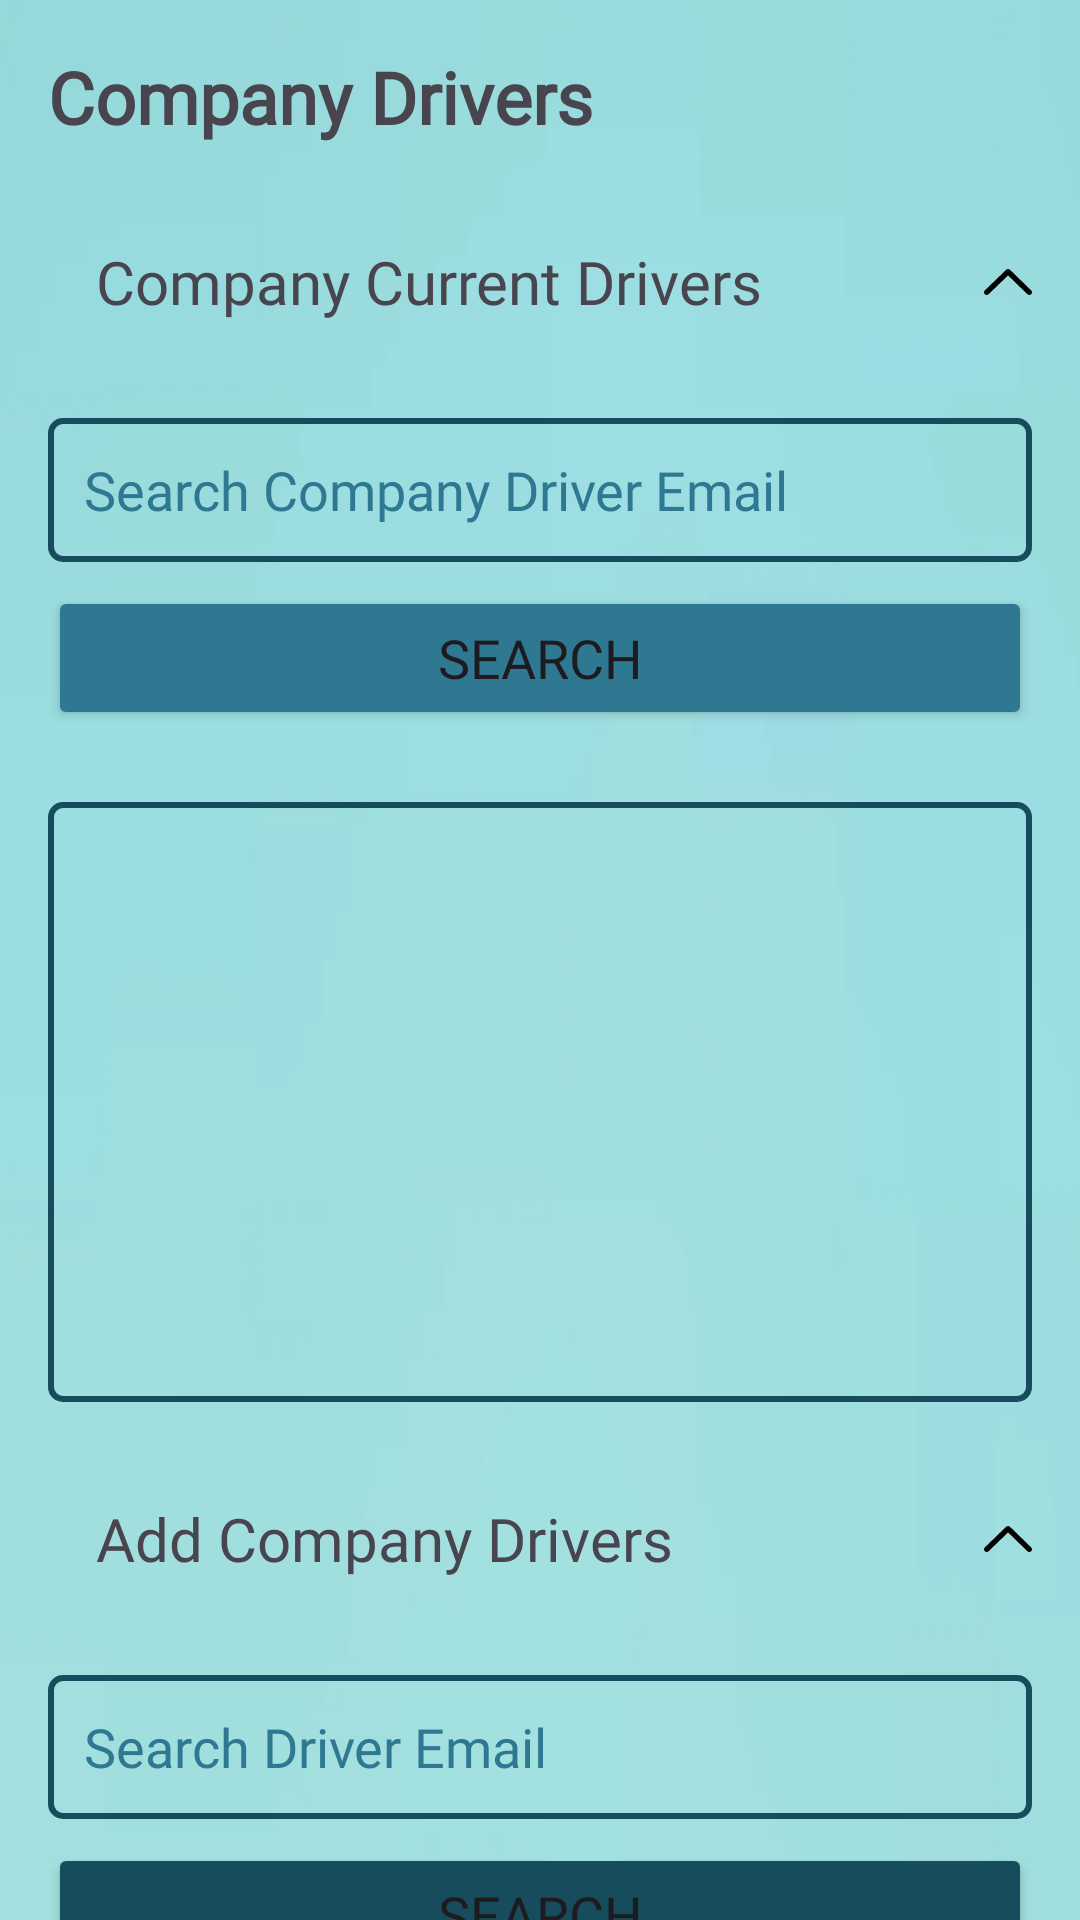

Screen size 1080px×1920px. Icon name, then its center in pixels as (x=x, y=y):
arrow up: (x=1008, y=282), (x=1008, y=1539)
